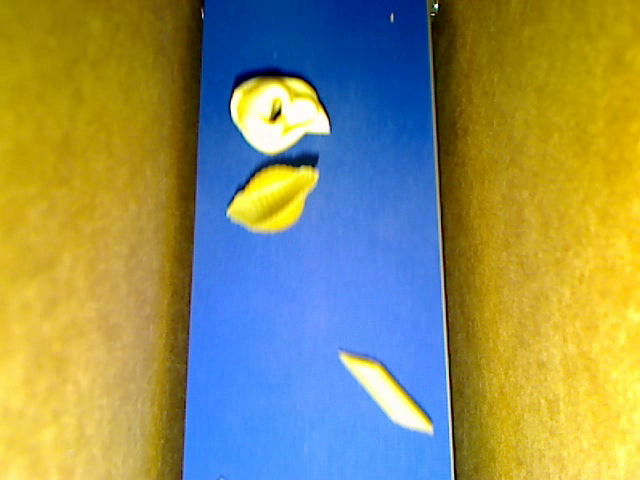penne: (338, 351, 433, 433)
shell: (226, 164, 320, 234)
tortellini: (230, 75, 330, 155)
